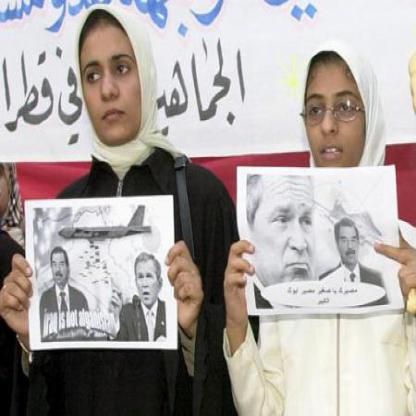face: (250, 163, 321, 302), (83, 15, 142, 149), (306, 54, 367, 180), (136, 254, 162, 307), (339, 223, 361, 269), (51, 251, 69, 287)
